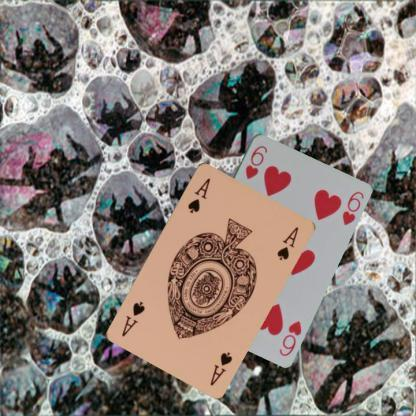6h: (276, 317, 303, 358), (242, 142, 269, 180)
As: (184, 174, 212, 214), (206, 349, 234, 387)
